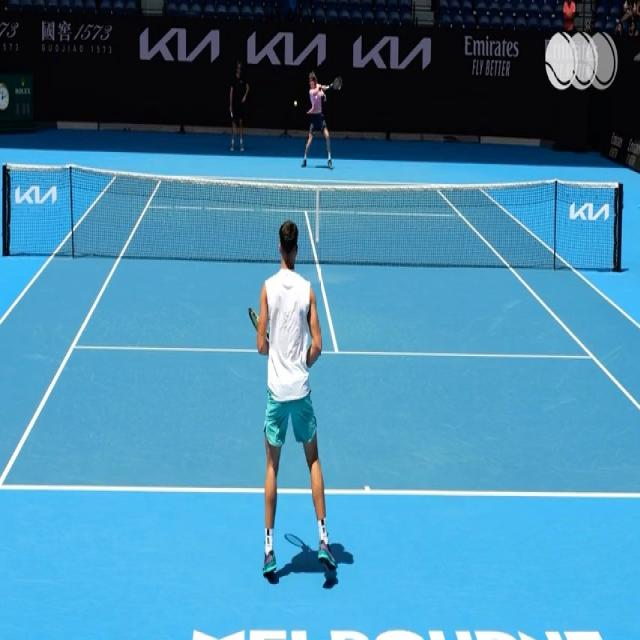ready-position: (237, 218, 350, 580)
